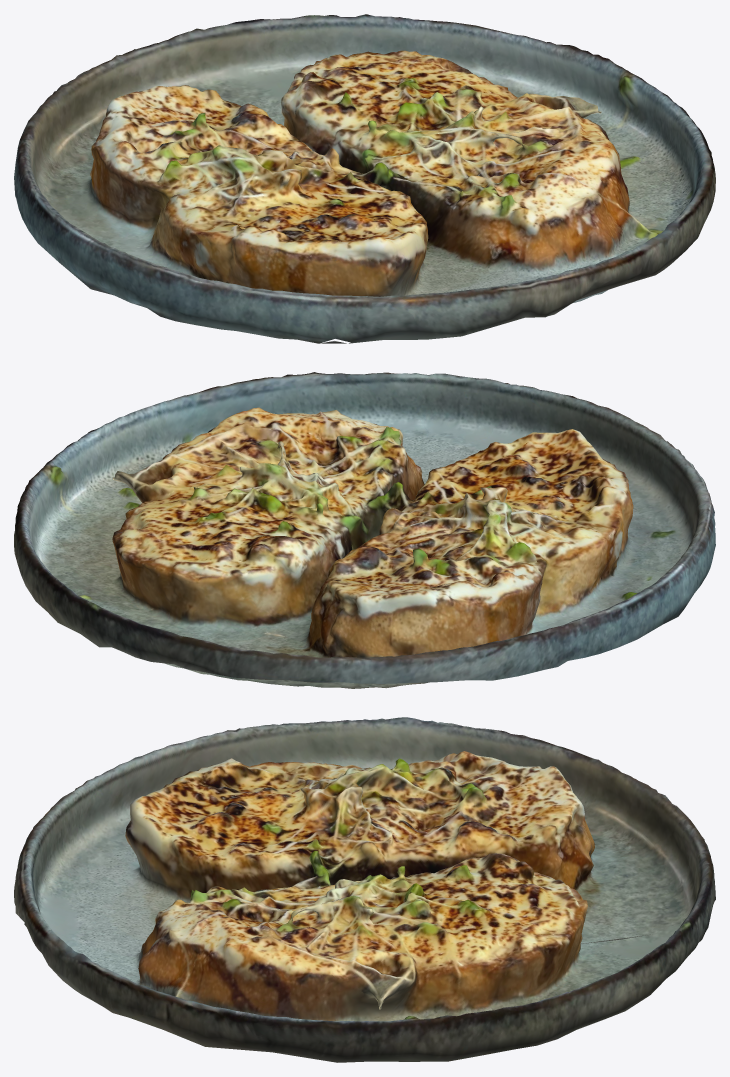
File: tartine-chevre-miel.ar.glb
3 renders of one model, top to bottom at view 1: azimuth 30°, elevation 25°; view 2: azimuth 150°, elevation 25°; view 3: azimuth 270°, elevation 25°, orthographic.
Parts seen in each view (by area): view 1: /ObjectCapture/Geometry/Mesh; view 2: /ObjectCapture/Geometry/Mesh; view 3: /ObjectCapture/Geometry/Mesh.
Boxes of the visible parts, x1,y1,x2,y2 form: /ObjectCapture/Geometry/Mesh: (14, 14, 715, 343); /ObjectCapture/Geometry/Mesh: (14, 372, 715, 688); /ObjectCapture/Geometry/Mesh: (14, 717, 715, 1062).
Bounding box in the file's own units: 0.2071 × 0.0325 × 0.207.
1 material, 1 textured.
